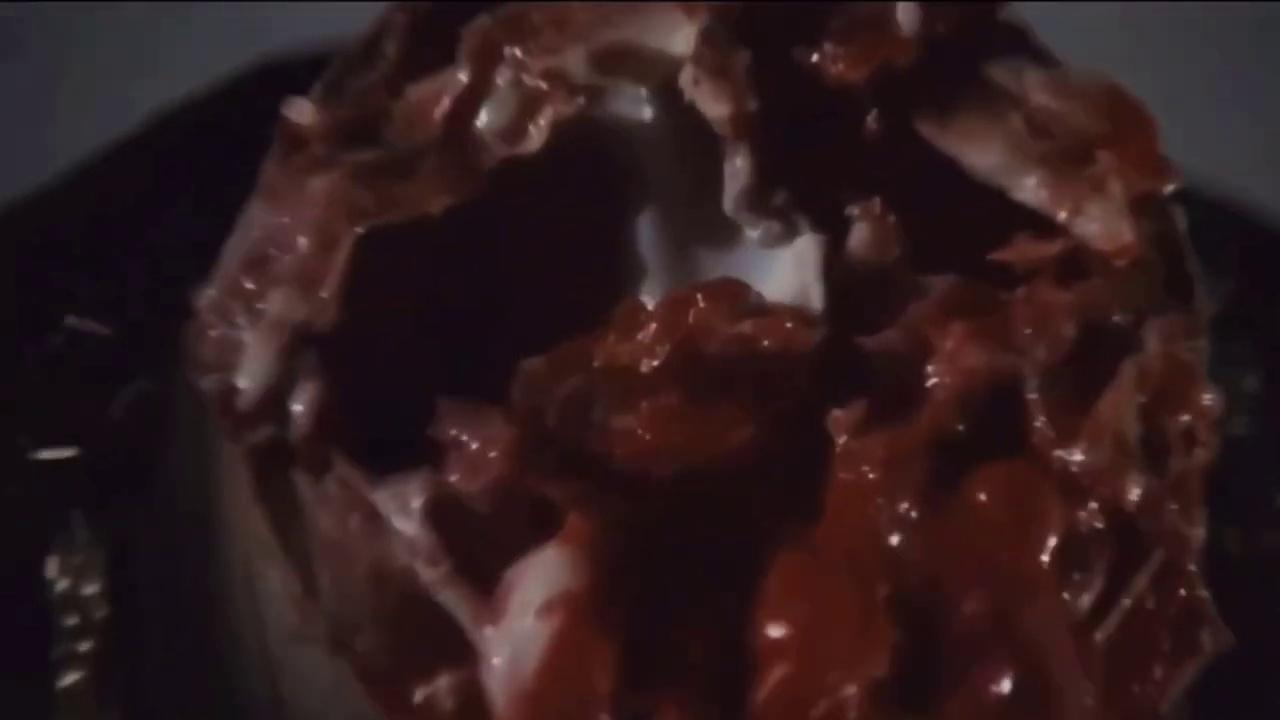Fire: (190, 4, 1232, 719)
